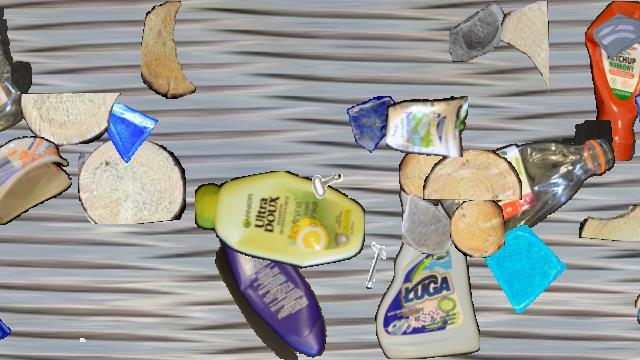glass: (483, 225, 571, 313), (88, 94, 158, 164), (449, 1, 509, 61), (402, 195, 460, 253), (347, 96, 403, 152), (593, 1, 640, 63), (0, 281, 13, 359), (633, 79, 640, 163)
metal: (291, 143, 351, 203), (351, 242, 407, 298), (55, 311, 93, 349)
plastic: (437, 120, 615, 238), (375, 169, 479, 359), (212, 217, 332, 359), (195, 171, 365, 271), (585, 1, 640, 161), (0, 136, 72, 226), (386, 92, 468, 156), (0, 1, 31, 145), (635, 281, 640, 357)
wood: (78, 136, 186, 224), (141, 1, 201, 99), (21, 93, 121, 147), (423, 150, 521, 200), (501, 1, 549, 97), (450, 200, 504, 258), (399, 146, 449, 206), (579, 205, 640, 241)
